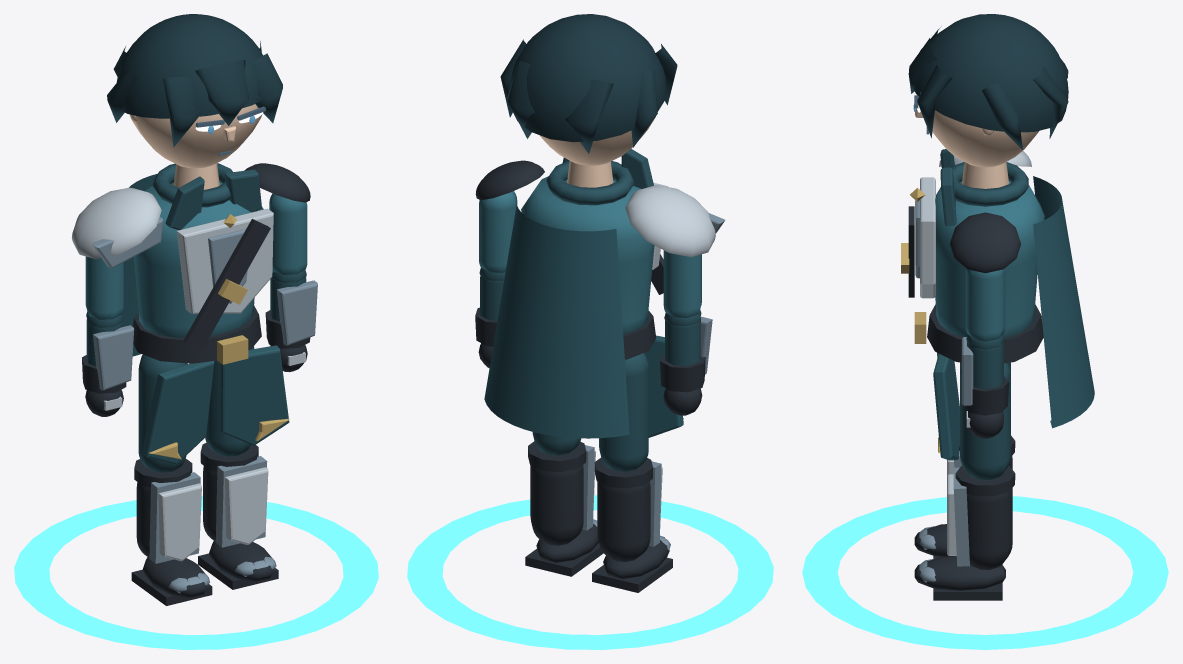
File: player.glb
The picture shows the model from 3 angles, left to right: view 1: azimuth 30°, elevation 25°; view 2: azimuth 150°, elevation 25°; view 3: azimuth 270°, elevation 25°; orthographic projection.
Parts seen in each view (by area): view 1: player-hair, object 38, object 36, base-chest-gear, base-shoulder-gear, object 3, object 15, object 19, object 8, object 37, object 14, object 18 (+17 smaller); view 2: object 34, player-hair, object 38, object 15, object 19, base-shoulder-gear, object 3, object 13, object 37, object 27, object 21, object 36 (+11 smaller); view 3: player-hair, object 38, object 34, object 3, object 19, base-shoulder-gear, base-chest-gear, object 8, object 37, object 27, object 17, object 36 (+10 smaller).
Boxes of the visible parts, box(x1,y1,x2,y2) form: player-hair: box(107, 14, 282, 147); object 38: box(14, 496, 378, 649); object 36: box(141, 345, 289, 464); base-chest-gear: box(176, 208, 273, 350); base-shoulder-gear: box(72, 163, 310, 268); object 3: box(133, 182, 263, 337); object 15: box(131, 458, 212, 605); object 19: box(198, 443, 278, 589); object 8: box(129, 104, 262, 168); object 37: box(152, 163, 261, 230); object 14: box(158, 483, 201, 561); object 18: box(225, 467, 268, 544); object 34: box(484, 205, 629, 438); player-hair: box(500, 14, 677, 153); object 38: box(407, 495, 773, 649); object 15: box(592, 457, 672, 592); object 19: box(525, 441, 603, 576); base-shoulder-gear: box(475, 160, 725, 257); object 3: box(521, 176, 654, 333); object 13: box(599, 353, 648, 471); object 37: box(546, 149, 653, 205); object 27: box(479, 191, 517, 272); object 21: box(663, 250, 701, 317); object 36: box(645, 335, 683, 437); player-hair: box(908, 14, 1068, 149); object 38: box(802, 496, 1168, 649); object 34: box(1033, 176, 1094, 427); object 3: box(935, 181, 1044, 338); object 19: box(914, 466, 1015, 600); base-shoulder-gear: box(939, 151, 1031, 273); base-chest-gear: box(901, 177, 935, 298); object 8: box(918, 96, 1039, 167); object 37: box(940, 149, 1028, 226); object 27: box(965, 268, 1005, 341); object 17: box(960, 363, 1010, 479); object 36: box(933, 352, 959, 460).
Bounding box in the file's own units: 1.24 × 2.06 × 1.24.
